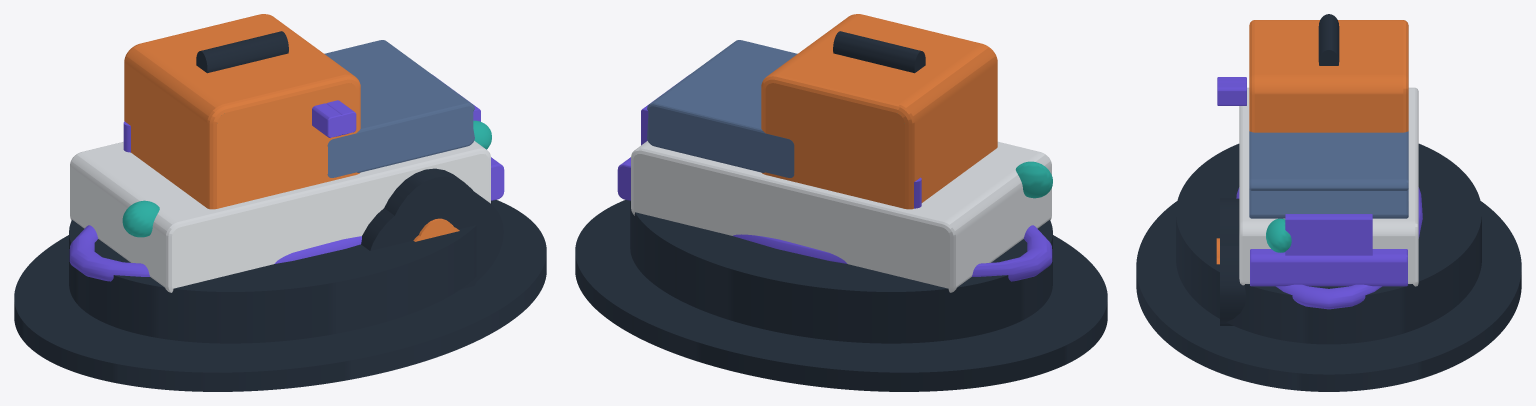
Rendered from 1351_城市运转图鉴_潮汐车道.glb.
The picture shows the model from 3 angles, left to right: view 1: azimuth 30°, elevation 25°; view 2: azimuth 150°, elevation 25°; view 3: azimuth 270°, elevation 25°; orthographic projection. The views are drawn at different scales.
Visible parts, largest first — view 1: card_1351; view 2: card_1351; view 3: card_1351.
Part boxes in pixels (left/top/right/bottom): card_1351: left=14, top=14, right=546, bottom=391; card_1351: left=575, top=14, right=1107, bottom=391; card_1351: left=1136, top=14, right=1521, bottom=391.
Size of the model in its own units: 1.92 by 1 by 1.45.
